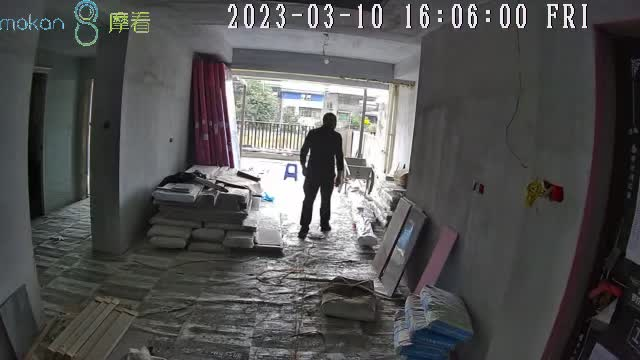people: (299, 112, 345, 237)
window: (233, 73, 366, 158)
